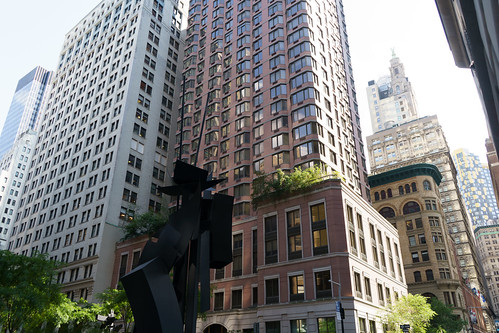building: (13, 1, 185, 333), (113, 190, 415, 333), (178, 1, 364, 187), (367, 163, 470, 330), (1, 62, 64, 265), (364, 58, 446, 166)
